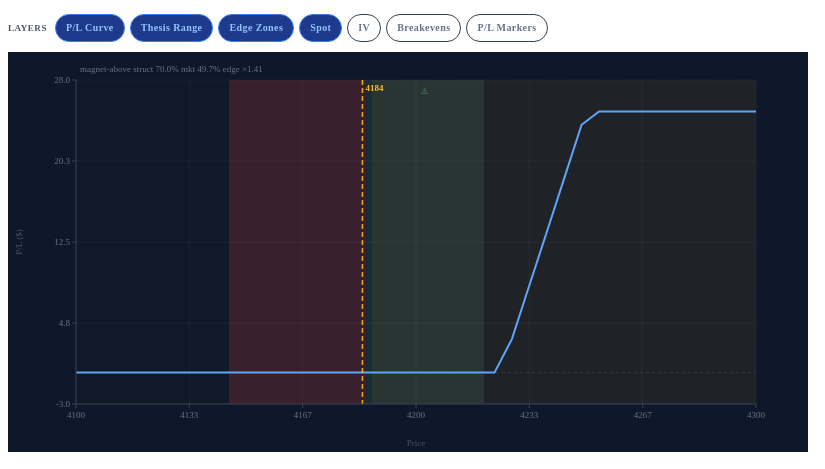
Test: ProposalEdgeChart › click popover › zone popover is dismissed by clicking the ✕ button
The image size is (825, 469).
Click the picture named "Proposal edge chart".
click(408, 252)  # box [8,52,808,452]
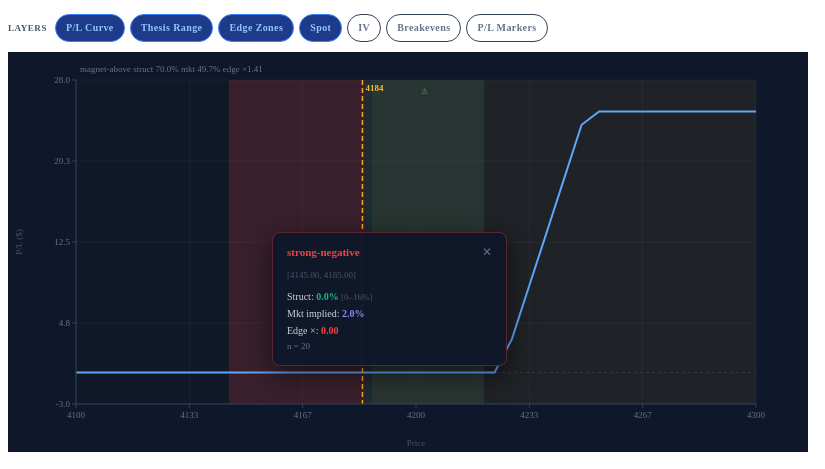
Now the button "✕" is shown
Click the button "✕".
click(487, 252)  # box [482,246,492,258]
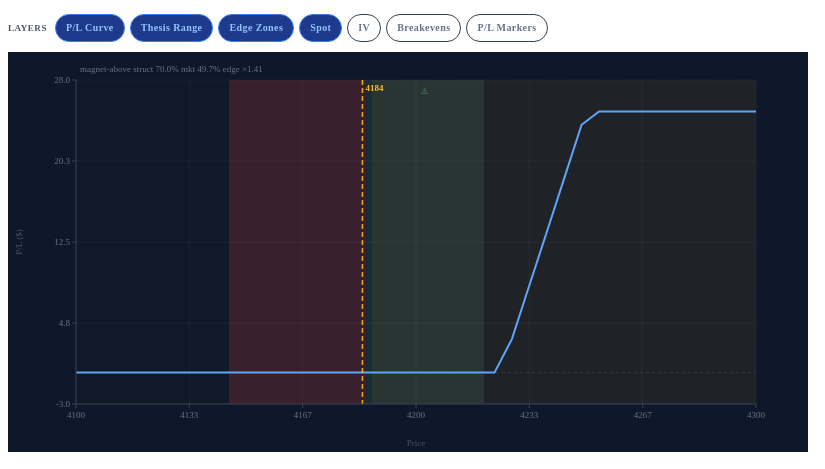
Now the element with test id "zone-popover" is gone
